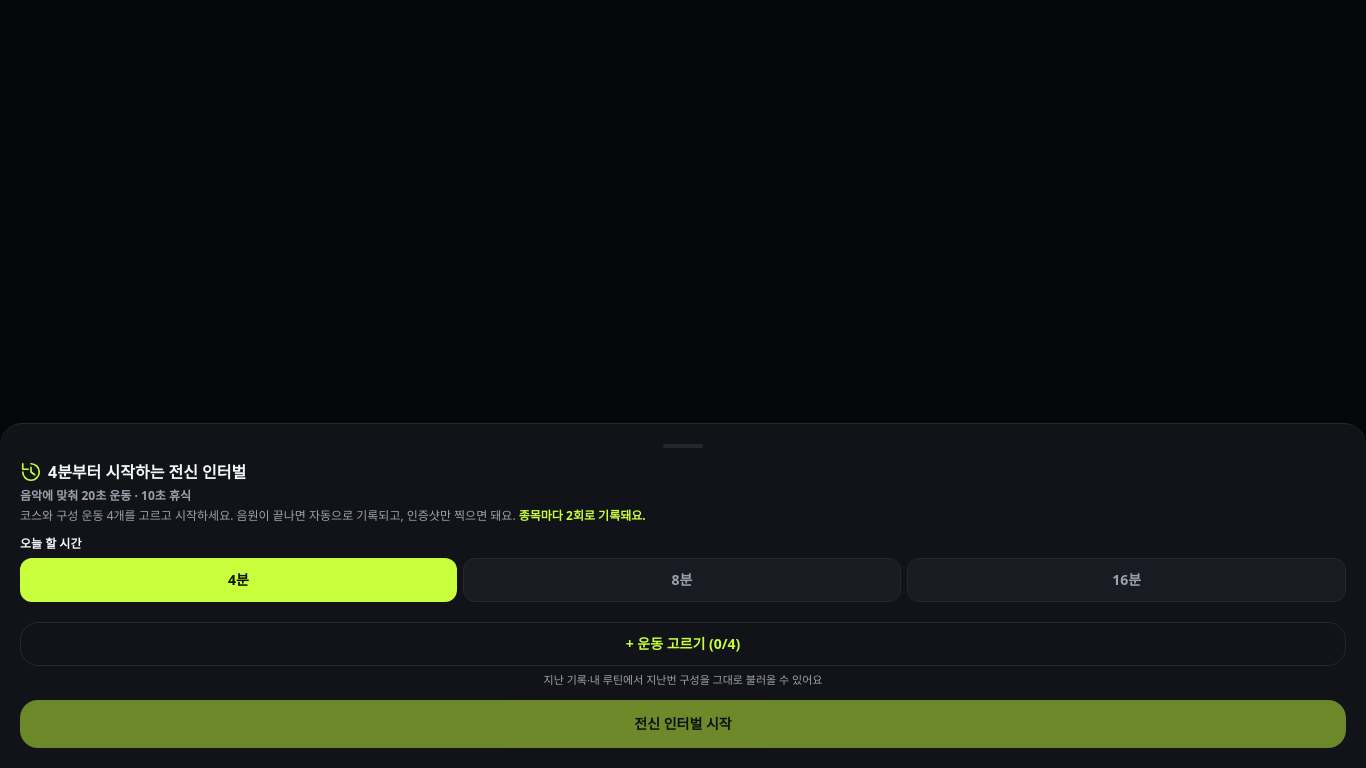
Test: TabataSheet — 운동 고르기 배선 (2026-08-06) › 검색으로 고른 운동도 같은 자리에 담긴다
Click the button "+ 운동 고르기 (0/4)".
click(683, 644)  # box [20,622,1346,666]
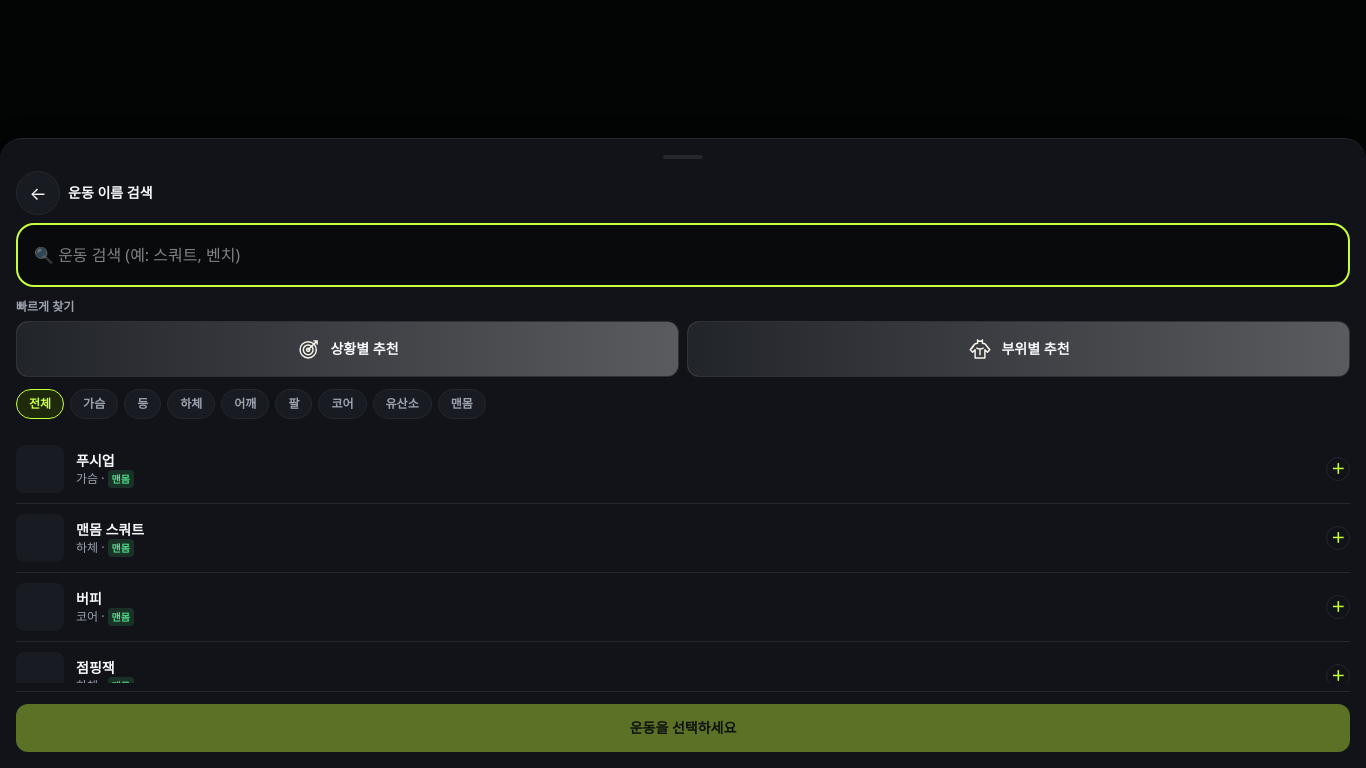
Type "버피" into the field with placeholder "🔍 운동 검색 (예: 스쿼트, 벤치)".
click(683, 255); type("버피")  # box [16,223,1350,287]
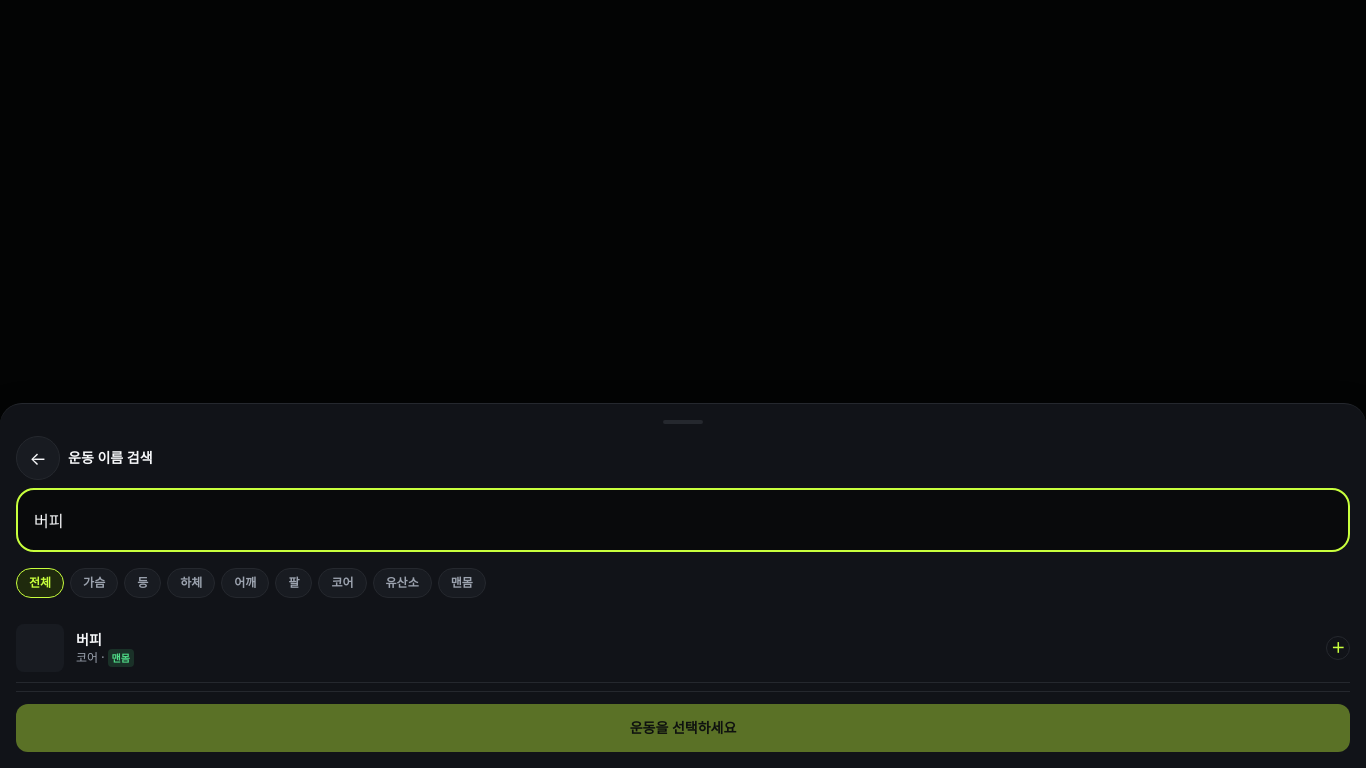
Click the text "버피".
click(89, 640)  # box [76,630,102,649]
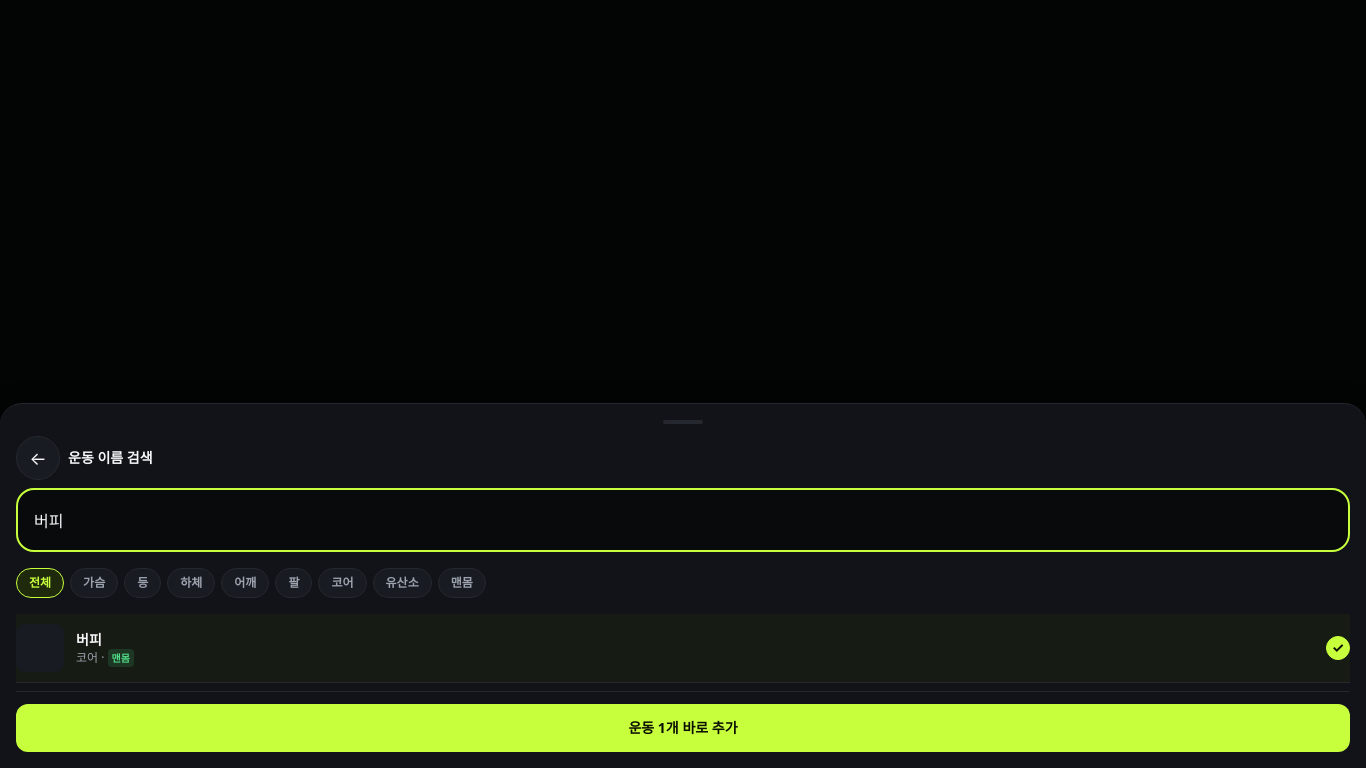
Click the button "운동 1개 바로 추가".
click(683, 728)  # box [16,704,1350,752]
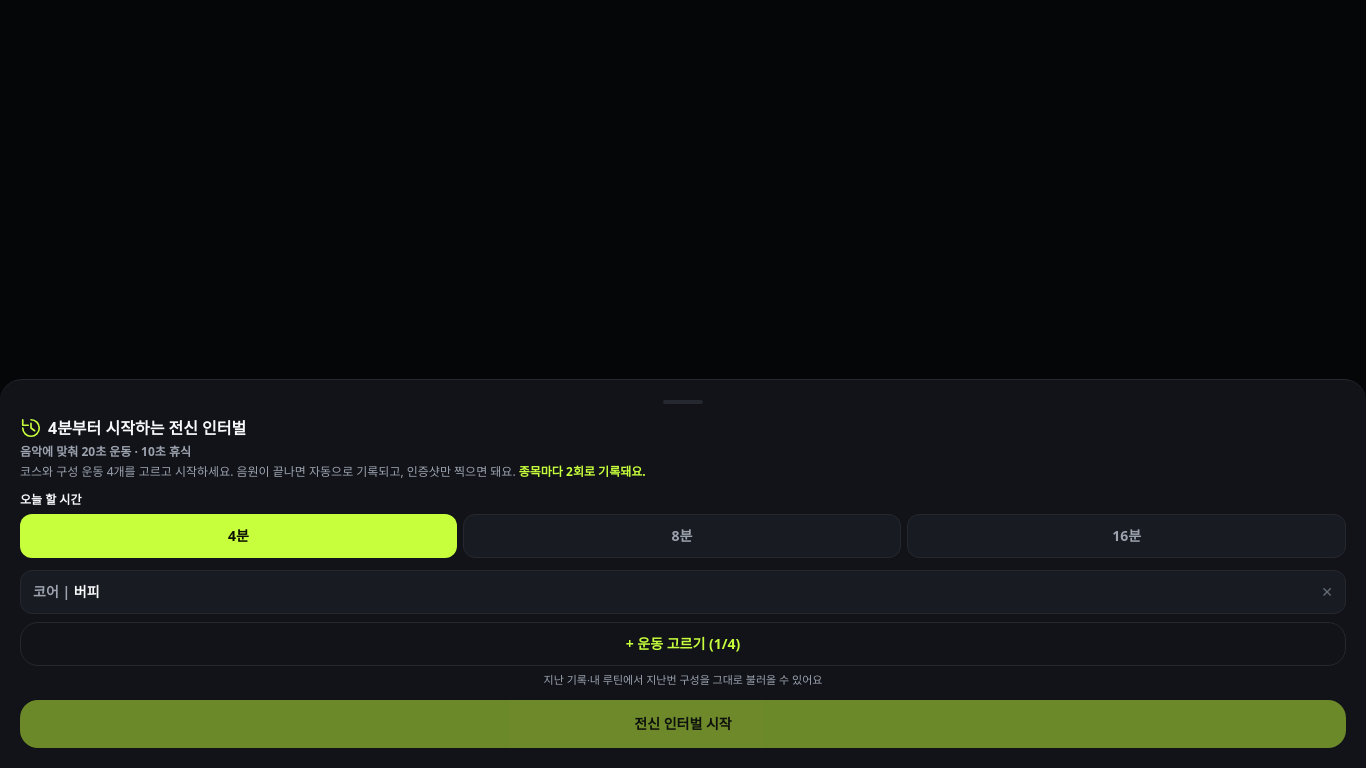
Expected: the button "+ 운동 고르기 (1/4)" is shown, [20,622,1346,666]
